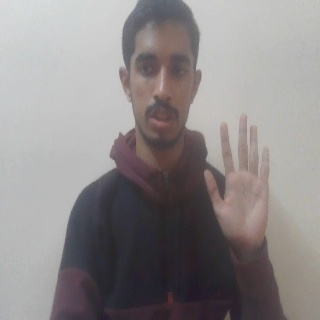Face: (118, 2, 203, 150)
Hello: (202, 113, 273, 251)
